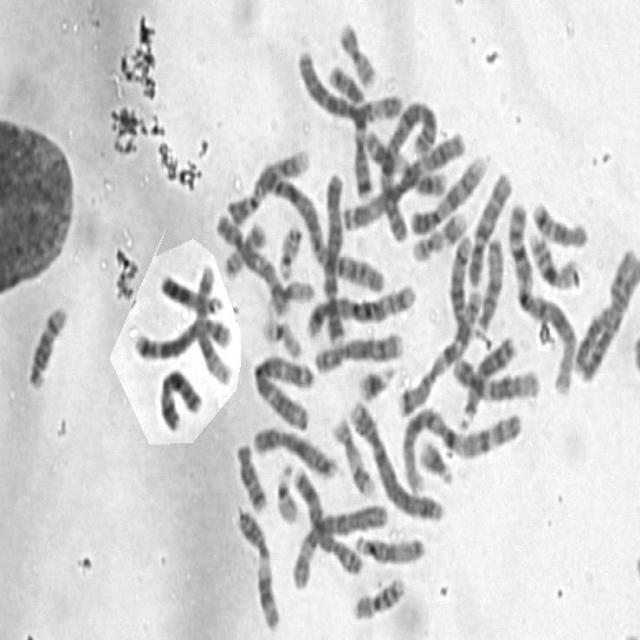A1: (504, 195, 578, 398), (397, 400, 524, 496)
A2: (254, 155, 386, 294), (378, 104, 443, 246)
A3: (338, 124, 466, 233), (249, 348, 315, 432)
B4: (346, 392, 446, 525), (322, 166, 348, 348)
B5: (302, 277, 418, 341), (131, 312, 234, 363)
C10: (212, 208, 290, 318), (464, 165, 514, 289)
C11: (233, 502, 282, 634), (361, 126, 450, 198)
C12: (190, 257, 233, 387), (448, 350, 540, 404)
C6: (289, 497, 389, 592), (294, 43, 406, 126)
C7: (393, 282, 483, 418), (324, 58, 372, 199)
C8: (288, 458, 366, 577), (309, 325, 405, 375)
C9: (223, 143, 312, 227), (405, 150, 488, 238)
D13: (456, 328, 522, 431), (158, 266, 222, 315)
D14: (24, 298, 70, 391), (444, 228, 480, 337)
D15: (473, 231, 506, 334), (351, 527, 427, 565)
E16: (524, 225, 581, 292), (349, 570, 407, 623)
E17: (328, 410, 378, 500), (407, 204, 469, 264)
E18: (528, 196, 590, 250), (232, 437, 269, 514)
F19: (264, 274, 317, 317), (258, 312, 304, 359)
F20: (335, 16, 379, 89), (220, 216, 268, 281)
G21: (416, 432, 456, 486), (354, 358, 396, 404)
G22: (272, 458, 300, 524), (275, 218, 304, 279)
X: (573, 241, 639, 382), (156, 359, 205, 434)
